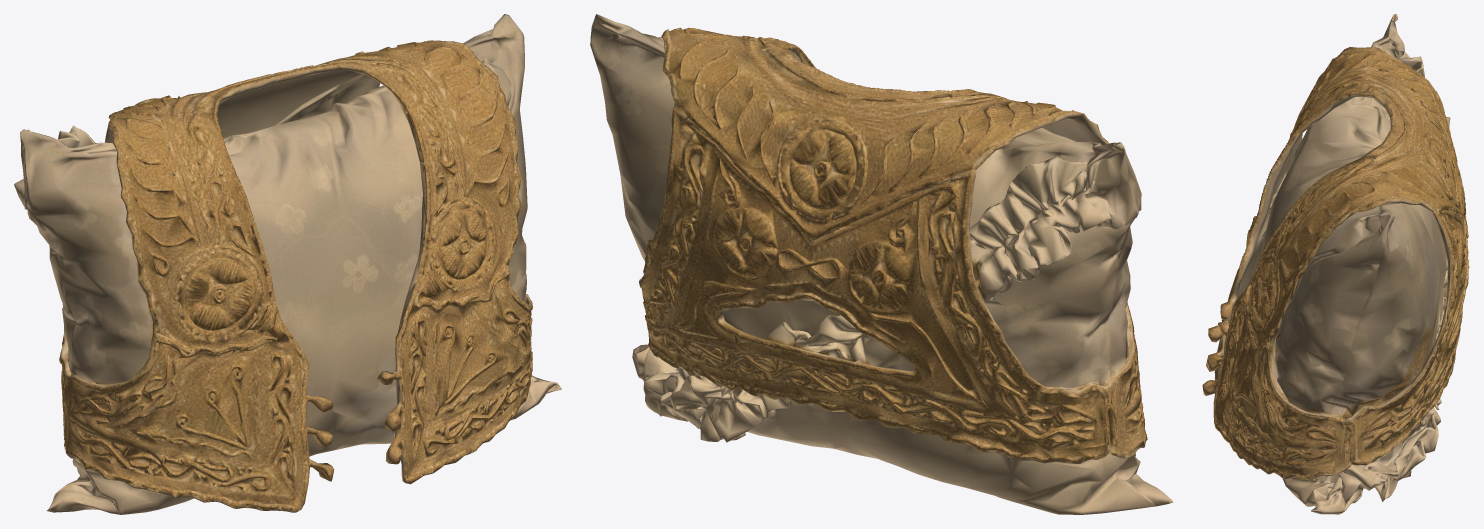
File: jelek-2.glb
3 renders of one model, left to right at view 1: azimuth 30°, elevation 25°; view 2: azimuth 150°, elevation 25°; view 3: azimuth 270°, elevation 25°, orthographic. The views are drawn at different scales.
Size of the model in its own units: 1.89 by 1.28 by 1.01.
1 material, 1 textured.
